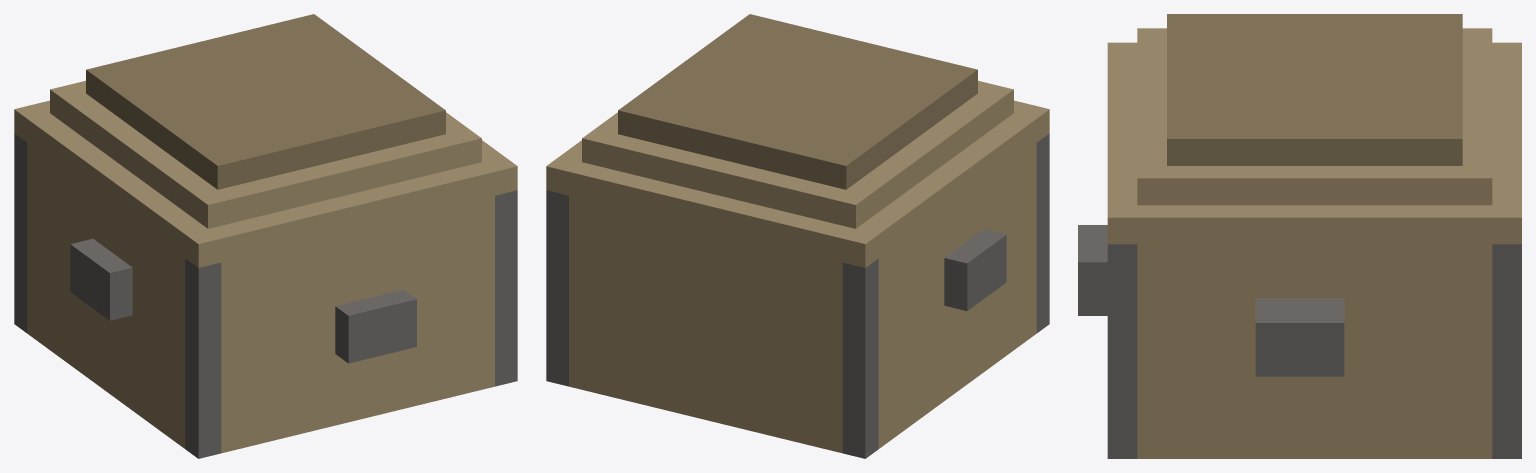
The model's file is barril_cerveza_casino_01.glb.
3 renders of one model, left to right at view 1: azimuth 30°, elevation 25°; view 2: azimuth 150°, elevation 25°; view 3: azimuth 270°, elevation 25°, orthographic. The views are drawn at different scales.
Parts seen in each view (by area): view 1: barril_cerveza_casino; view 2: barril_cerveza_casino; view 3: barril_cerveza_casino.
Part boxes in pixels (<box>): barril_cerveza_casino: <box>14,14,517,458</box>; barril_cerveza_casino: <box>546,14,1049,458</box>; barril_cerveza_casino: <box>1078,14,1521,458</box>.
Bounding box in the file's own units: 1.21 × 0.7857 × 1.07.
